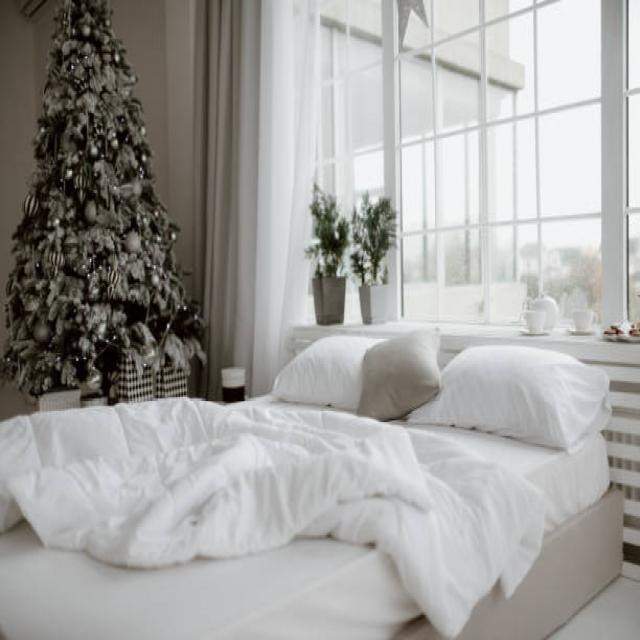bed: (0, 318, 611, 640)
